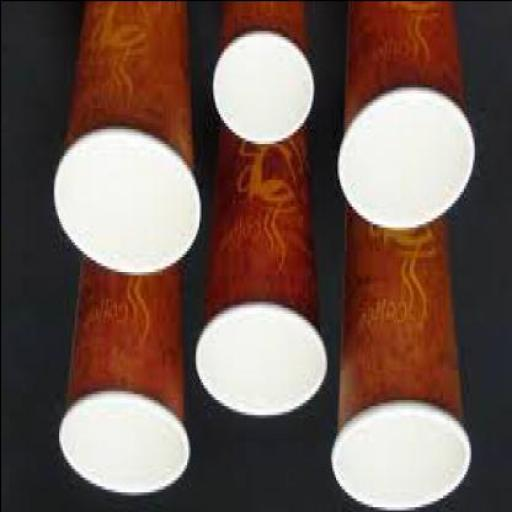paper: (331, 202, 475, 511), (54, 2, 203, 277), (195, 125, 328, 420), (61, 244, 191, 497), (338, 3, 476, 235), (212, 3, 316, 148)
